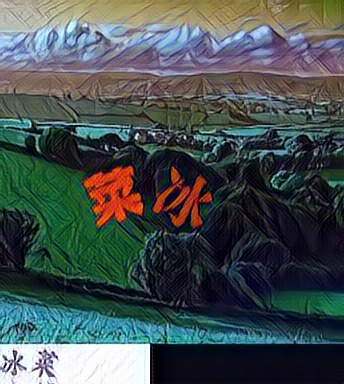B1F9: (153, 166, 215, 230)
B2CB: (84, 163, 146, 227)
